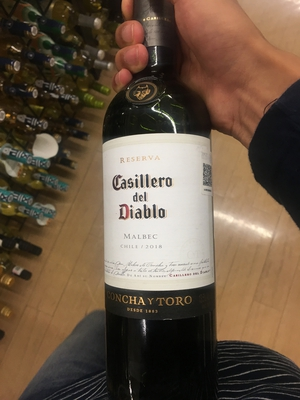casillero del diablo malbec: (88, 7, 220, 400)
